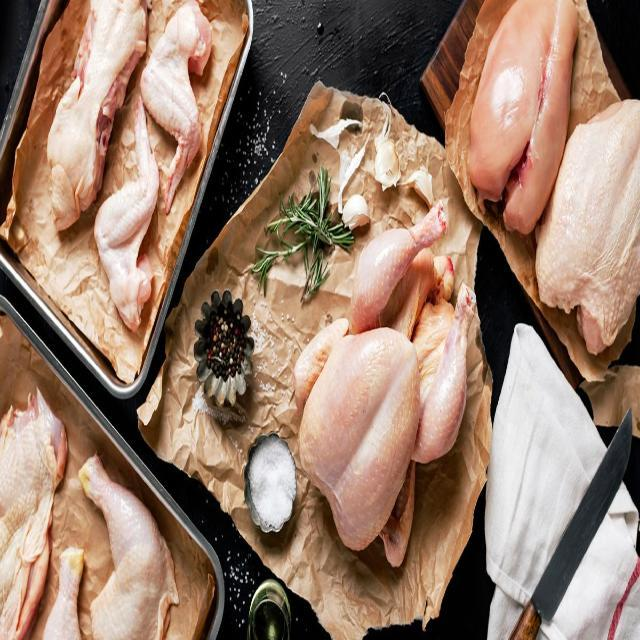breast: (438, 0, 590, 231), (529, 75, 640, 368)
quater: (72, 450, 189, 640)
wing: (96, 98, 167, 333), (140, 4, 217, 203)
